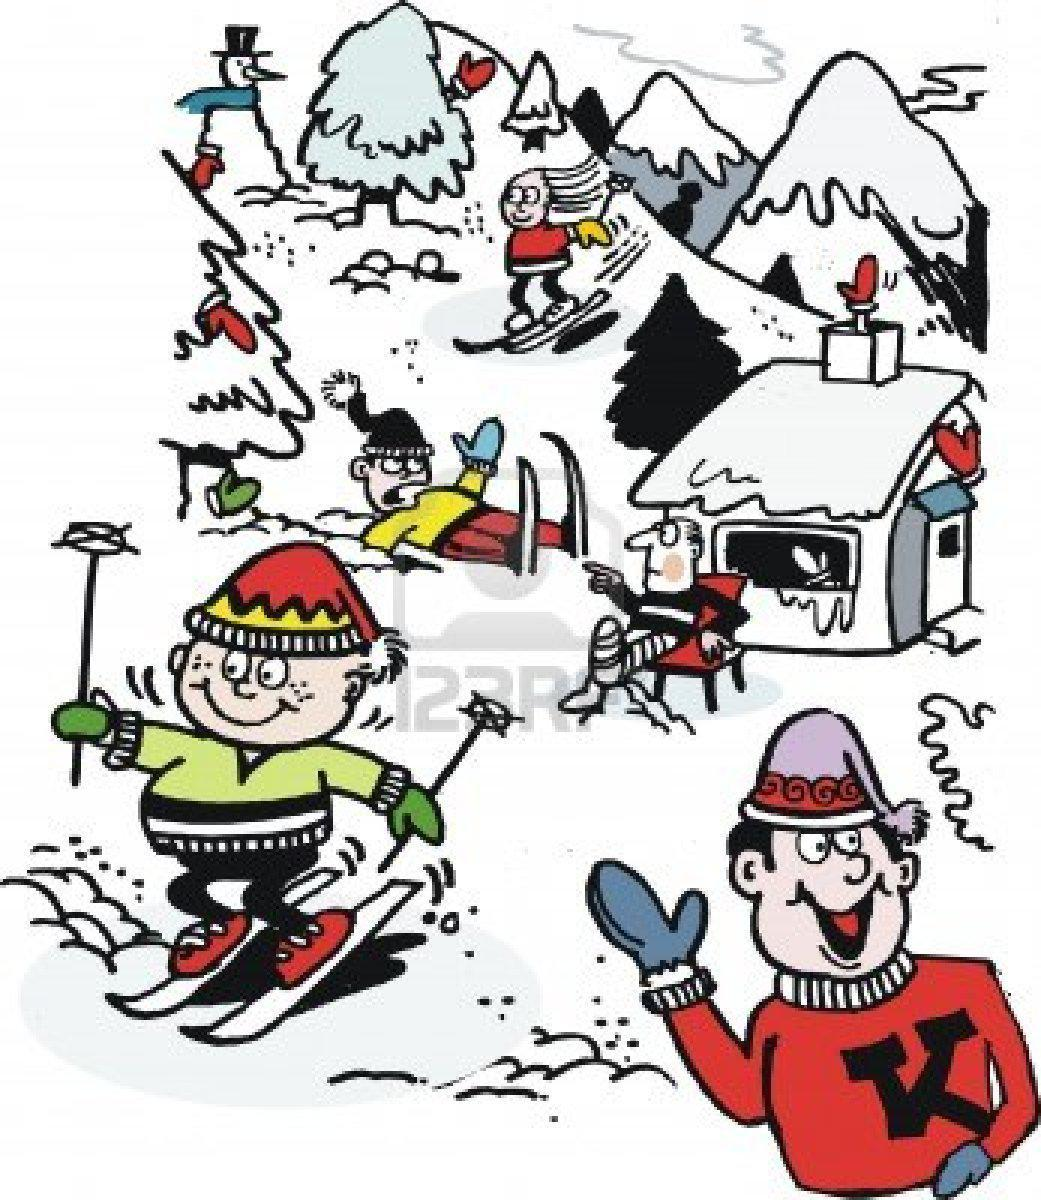chair: (635, 560, 745, 712)
person: (47, 500, 440, 1001), (579, 784, 1019, 1184), (321, 360, 598, 587), (585, 510, 754, 706), (476, 158, 595, 346)
